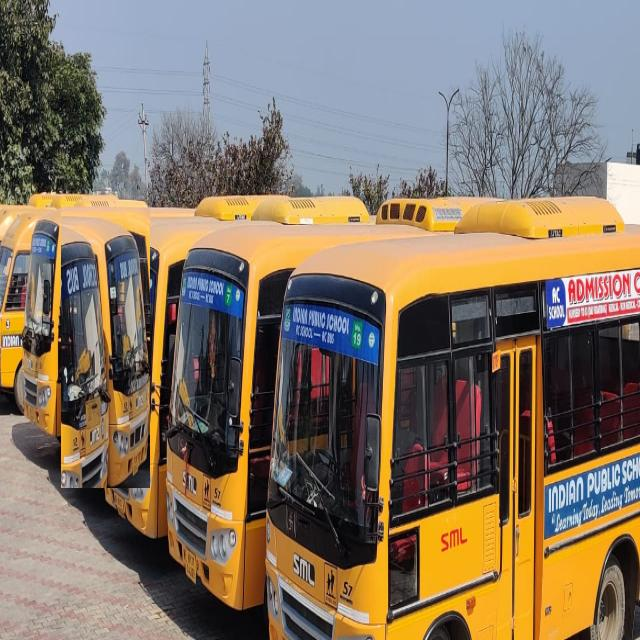bus: (260, 198, 640, 638), (165, 198, 414, 608), (101, 217, 229, 537), (22, 198, 140, 435), (61, 208, 150, 488)
